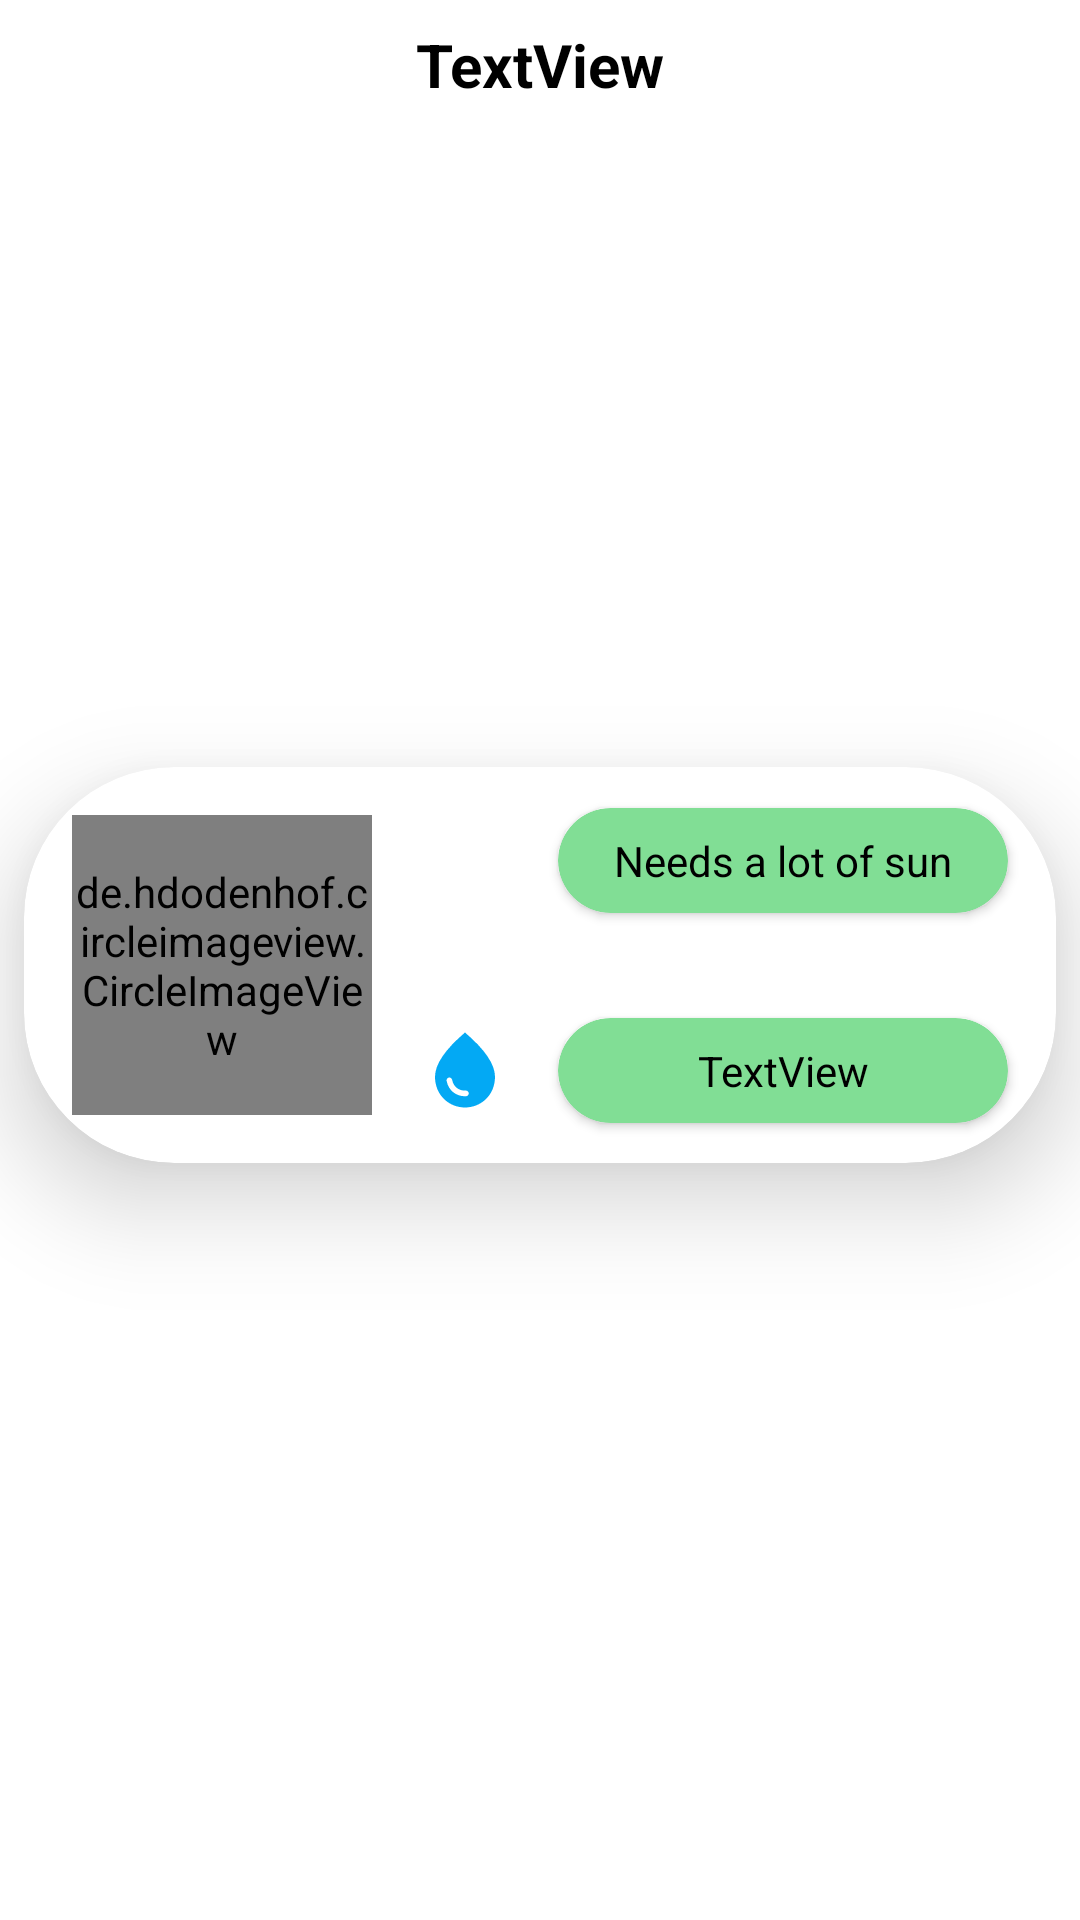

Screen size 1080px×1920px. Icon name, then its center in pixels as (x,y):
water drop: (465,1070)
